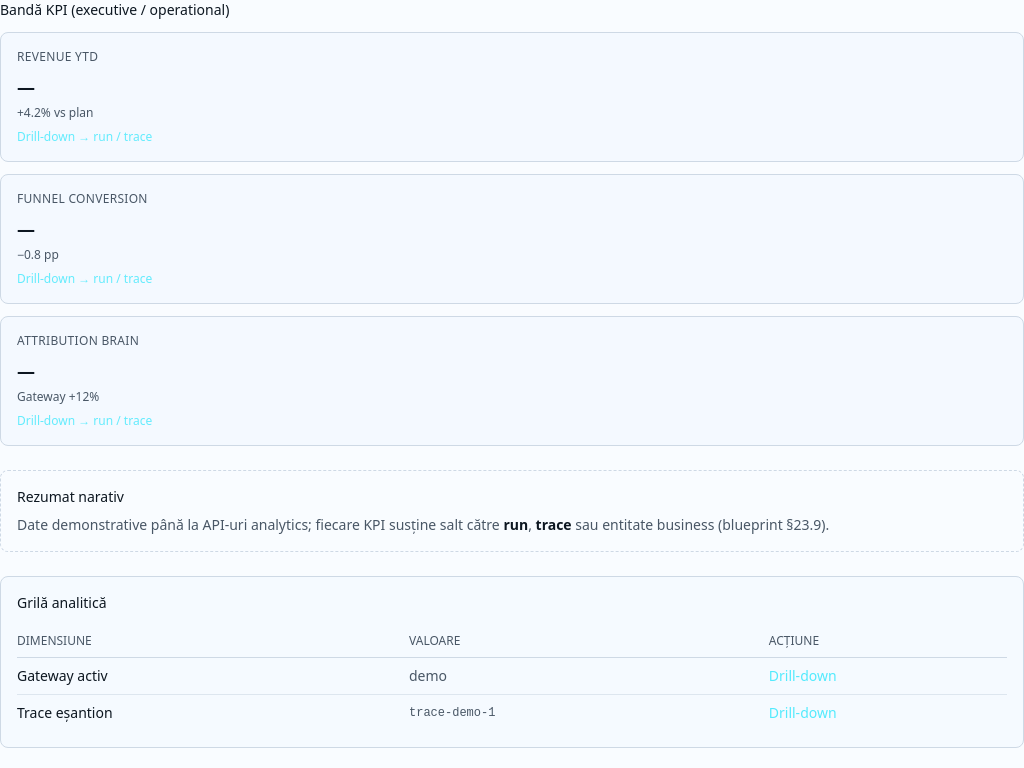
it: AnalyticsChapterWorkbench (§24.6) › deschide drill-down și afișează legături Brain
The image size is (1024, 768).
Click the button "Revenue YTD — +4.2% vs plan Drill-down → run / trace". click: (58, 56)
box: [0,32,1023,162]
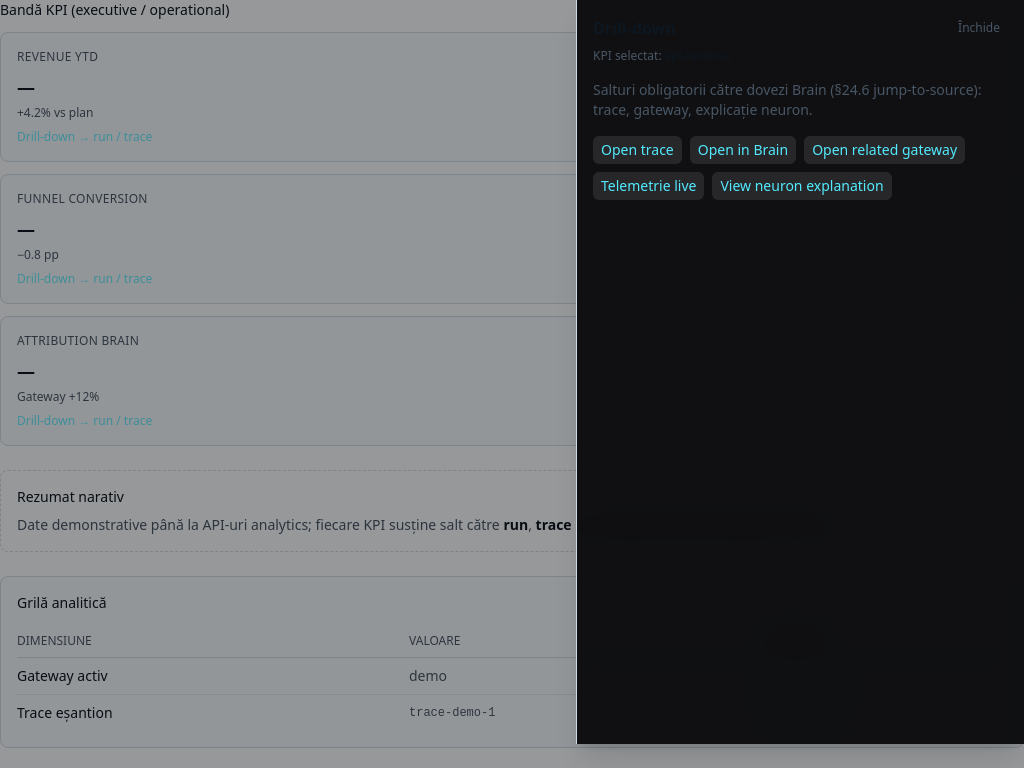
Expected: the element named "Drill-down analytics" is shown, [576,0,1023,744]
Expected: the link "Open trace" is shown, [593,136,682,164]
